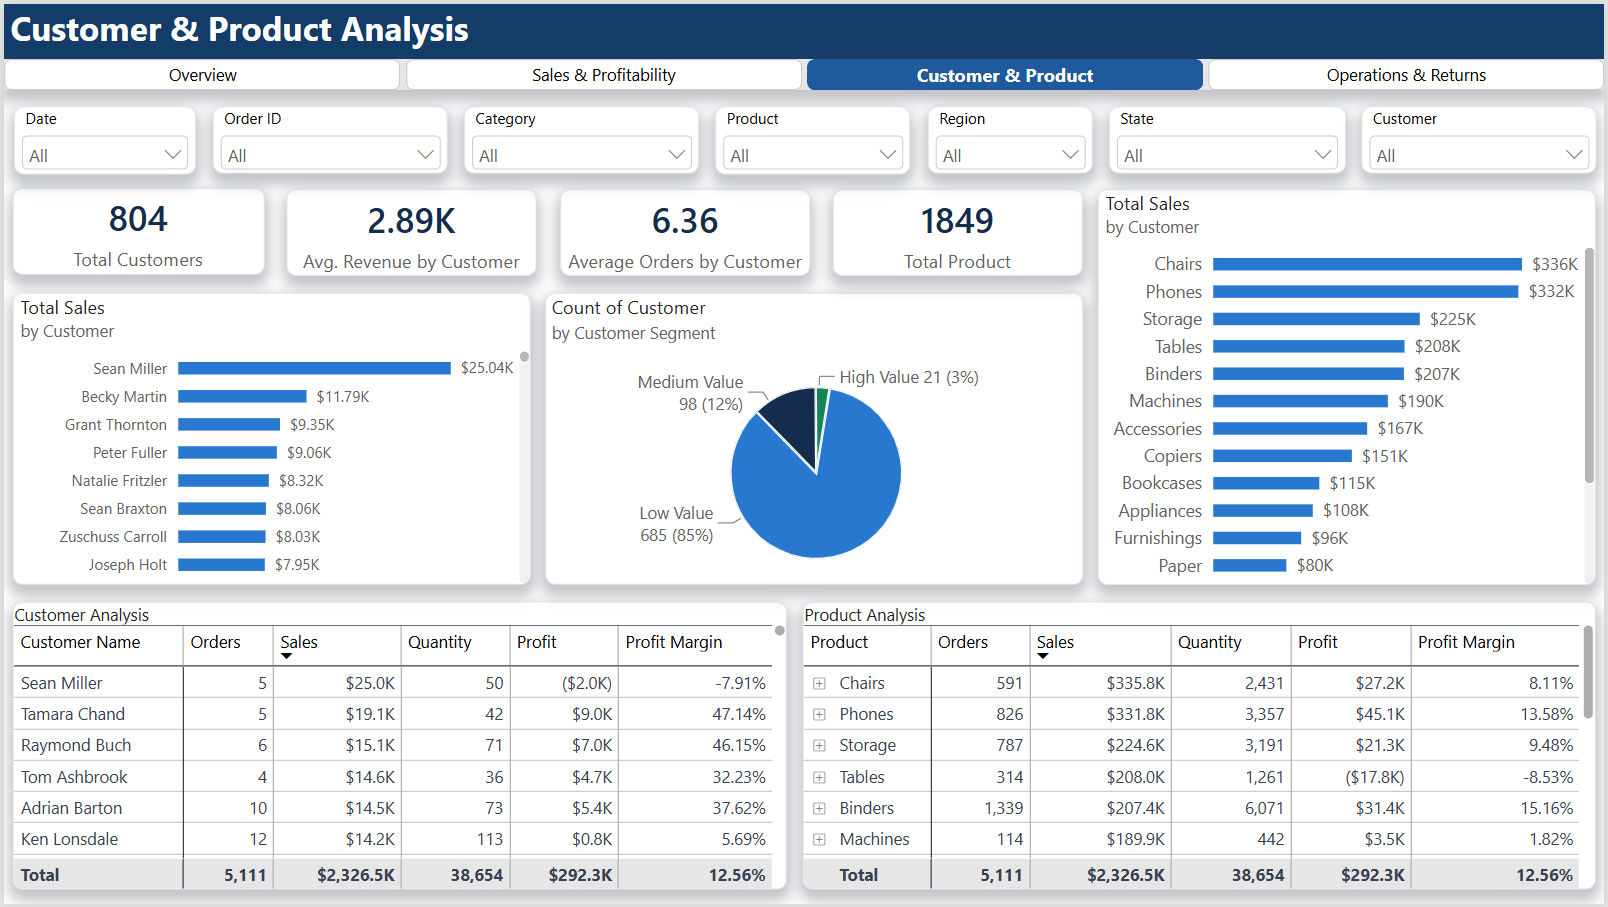

The dashboard page shown, as its layout file describes it:
{"tool":"powerbi","page":{"name":"Customer & Product","canvas":[1280,720],"ordinal":2},"visuals":[{"type":"pivotTable","title":"Customer Analysis","fields":{"Rows":["Orders.Customer Name"],"Values":["_Measures.Total Orders","_Measures.Total Sales","_Measures.Total Quantity","_Measures.Total Profit","_Measures.Profit Margin"]},"box":[7,478,619,231],"z":0},{"type":"pivotTable","title":"Product Analysis","fields":{"Rows":["Orders.Sub-Category","Orders.Product Name"],"Values":["_Measures.Total Orders","_Measures.Total Sales","_Measures.Total Quantity","_Measures.Total Profit","_Measures.Profit Margin"]},"box":[639.2,478.4,633.9,230.7],"z":1000},{"type":"shape","box":[0,0,1280.2,45.2],"z":2000},{"type":"textbox","box":[4,0,599,41.7],"z":3000},{"type":"card","fields":{"Values":["_Measures.Total Customers"]},"box":[7.2,147.4,200.6,70],"z":4000},{"type":"card","fields":{"Values":["_Measures.Sales per Customer"]},"box":[226.2,147.6,200,70],"z":5000},{"type":"card","fields":{"Values":["_Measures.Average Orders by Customer"]},"box":[444.6,147.6,200,70],"z":6000},{"type":"clusteredBarChart","title":"Total Sales","fields":{"Category":["Orders.Customer Name"],"Y":["_Measures.Total Sales"]},"box":[7,231,414,234],"z":7000},{"type":"pieChart","fields":{"Category":["Orders.Customer Segment"],"Y":["Count(Orders.Customer ID)"]},"box":[433,231,430,234],"z":8000},{"type":"card","fields":{"Values":["Count(Orders.Product Name)"]},"box":[663,148,199.7,70],"z":9000},{"type":"clusteredBarChart","title":"Total Sales","fields":{"Category":["Orders.Sub-Category","Orders.Product Name"],"Y":["_Measures.Total Sales"]},"box":[875,148,398,317],"z":10000},{"type":"pageNavigator","box":[0,44,1280,25],"z":17001},{"type":"slicer","fields":{"Values":["DimDate.Year","DimDate.Month","DimDate.Day"]},"box":[7.6,82.2,145.8,54.4],"z":17002},{"type":"slicer","fields":{"Values":["Orders.Order ID"]},"box":[166.8,82.1,187.7,54.1],"z":17003},{"type":"slicer","fields":{"Values":["Orders.Category"]},"box":[368,82.1,187.7,54.1],"z":17004},{"type":"slicer","fields":{"Values":["Orders.Region"]},"box":[738.6,82,132.4,54.1],"z":17005},{"type":"slicer","fields":{"Values":["Orders.State/Province"]},"box":[884.5,82,188,54.3],"z":17006},{"type":"slicer","fields":{"Values":["Orders.Sub-Category"]},"box":[569.2,81.6,156,55],"z":17007},{"type":"slicer","fields":{"Values":["Orders.Customer Name"]},"box":[1086,82,187.7,54.1],"z":17008}]}

Visuals, with their boxes in screenshot pixels (x1, y1, x2, y2), scaled from the page's 1280x720 canvas onto the 1608x907 screenshot:
"Customer Analysis" pivotTable: Rect(9, 602, 786, 893)
"Product Analysis" pivotTable: Rect(803, 603, 1599, 893)
shape: Rect(0, 0, 1607, 57)
textbox: Rect(5, 0, 758, 53)
card - _Measures.Total Customers: Rect(9, 186, 261, 274)
card - _Measures.Sales per Customer: Rect(284, 186, 535, 274)
card - _Measures.Average Orders by Customer: Rect(559, 186, 810, 274)
"Total Sales" clusteredBarChart: Rect(9, 291, 529, 586)
pieChart - Orders.Customer Segment x Count(Orders.Customer ID): Rect(544, 291, 1084, 586)
card - Count(Orders.Product Name): Rect(833, 186, 1084, 275)
"Total Sales" clusteredBarChart: Rect(1099, 186, 1599, 586)
pageNavigator: Rect(0, 55, 1607, 87)
slicer - DimDate.Year x DimDate.Month: Rect(10, 104, 193, 172)
slicer - Orders.Order ID: Rect(210, 103, 445, 172)
slicer - Orders.Category: Rect(462, 103, 698, 172)
slicer - Orders.Region: Rect(928, 103, 1094, 171)
slicer - Orders.State/Province: Rect(1111, 103, 1347, 172)
slicer - Orders.Sub-Category: Rect(715, 103, 911, 172)
slicer - Orders.Customer Name: Rect(1364, 103, 1600, 171)
